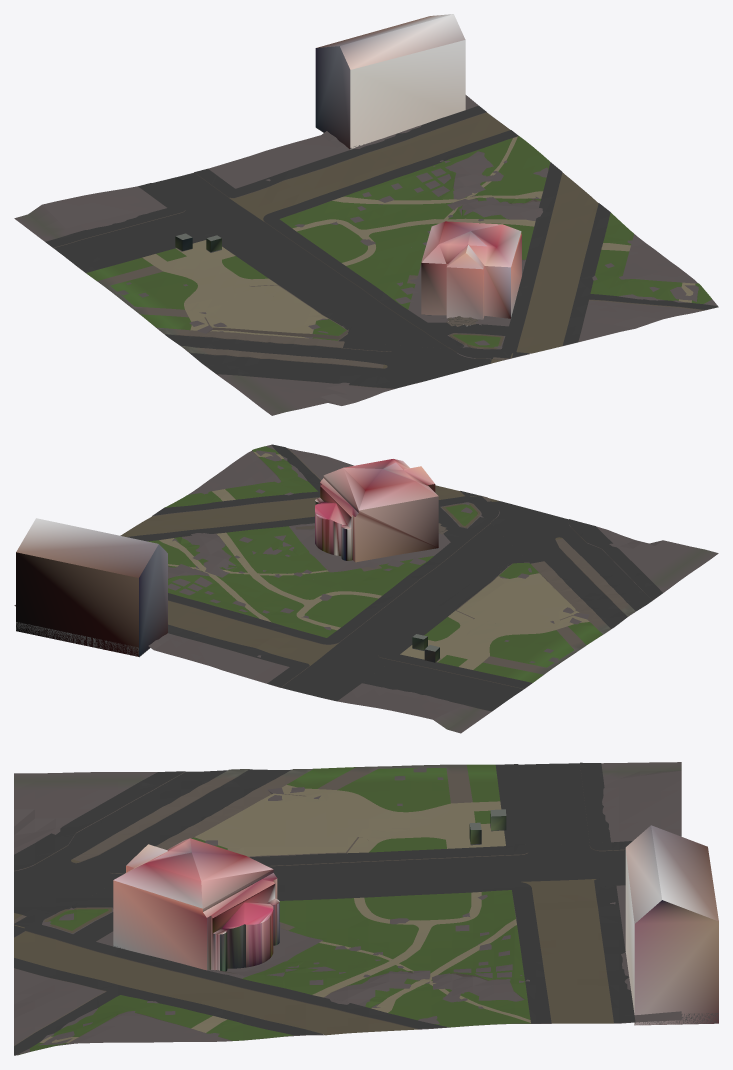
3 renders of one model, top to bottom at view 1: azimuth 30°, elevation 25°; view 2: azimuth 150°, elevation 25°; view 3: azimuth 270°, elevation 25°, orthographic. The views are drawn at different scales.
Parts seen in each view (by area): view 1: c_p00_m13; view 2: c_p00_m13; view 3: c_p00_m13.
Boxes of the visible parts, bbox=[...] form: c_p00_m13: bbox=[14, 14, 718, 415]; c_p00_m13: bbox=[14, 444, 718, 733]; c_p00_m13: bbox=[14, 762, 718, 1055].
Size of the model in its own units: 128 by 32.93 by 135.
